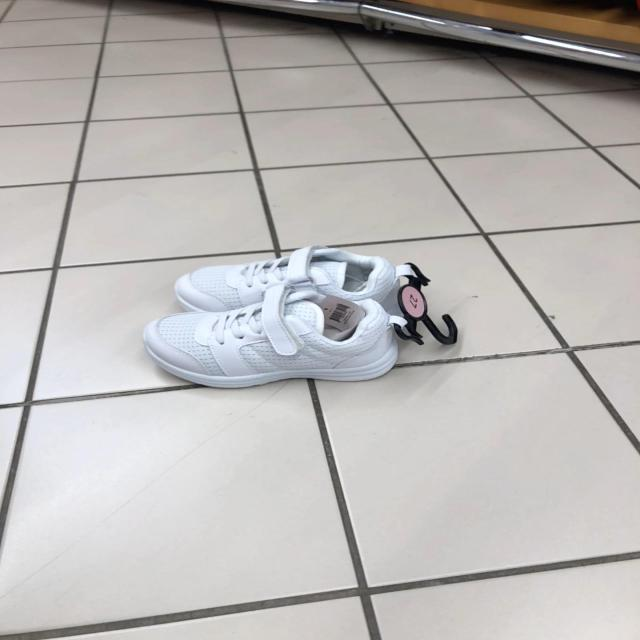shoe: (141, 287, 400, 391)
